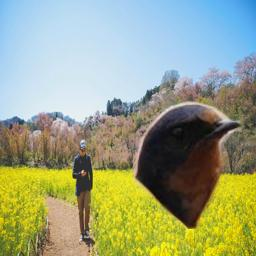Swallow: (133, 100, 244, 229)
